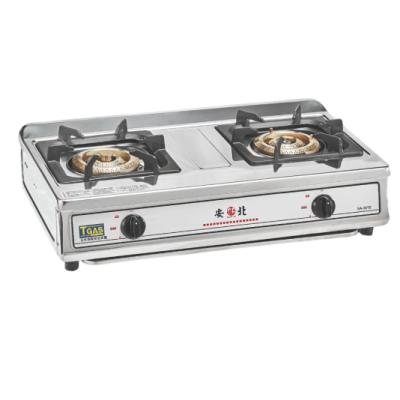gasoven: (16, 94, 391, 274)
